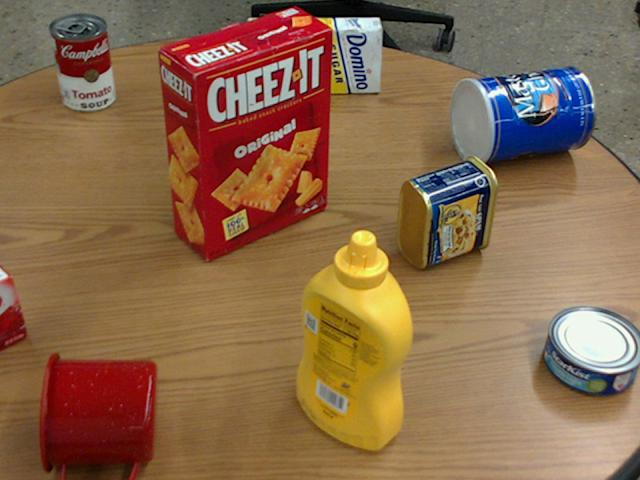cracker_box: (157, 7, 333, 260)
gelatin_box: (0, 264, 25, 348)
master_chef_can: (448, 66, 593, 165)
mug: (39, 351, 154, 479)
mustard_bottle: (296, 229, 411, 450)
potted_meat_can: (397, 154, 497, 268)
sugar_box: (247, 17, 384, 93)
tomato_soup_can: (50, 13, 114, 111)
tuna_fish_can: (542, 305, 639, 394)
